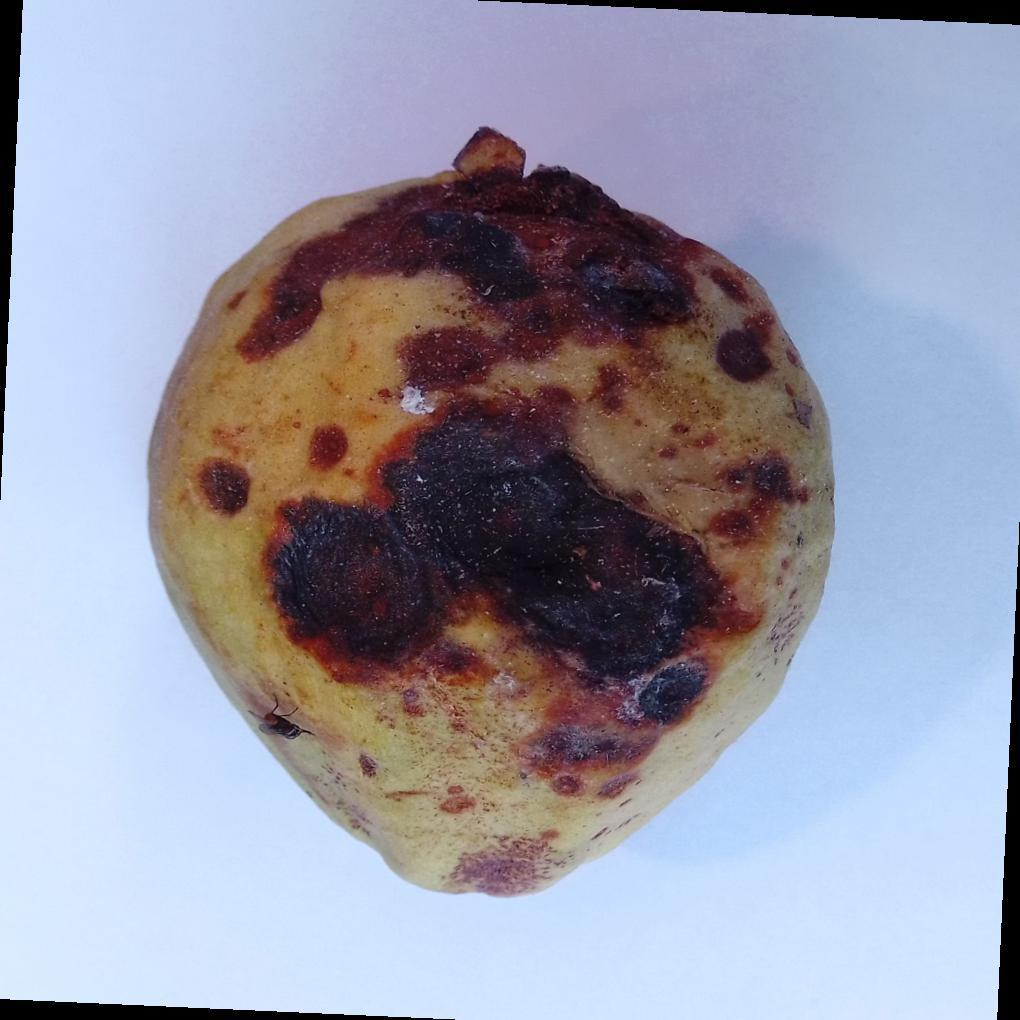FreshOrange: (145, 129, 837, 903)
